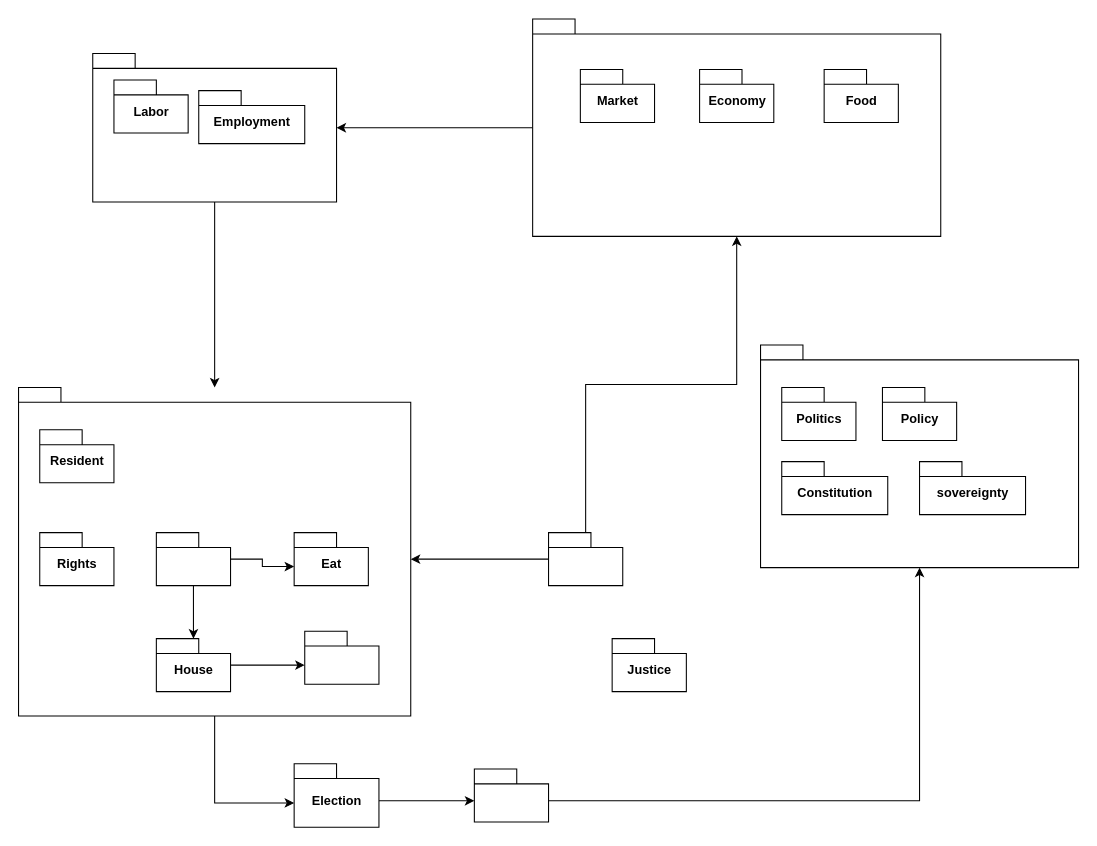
Image size: 1097x846. Some labels were removed from this diagram. Each missing label, with the centre of its shape:
Land: (341,657)
Leader: (511,795)
Live: (193,559)
Territory: (585,559)
